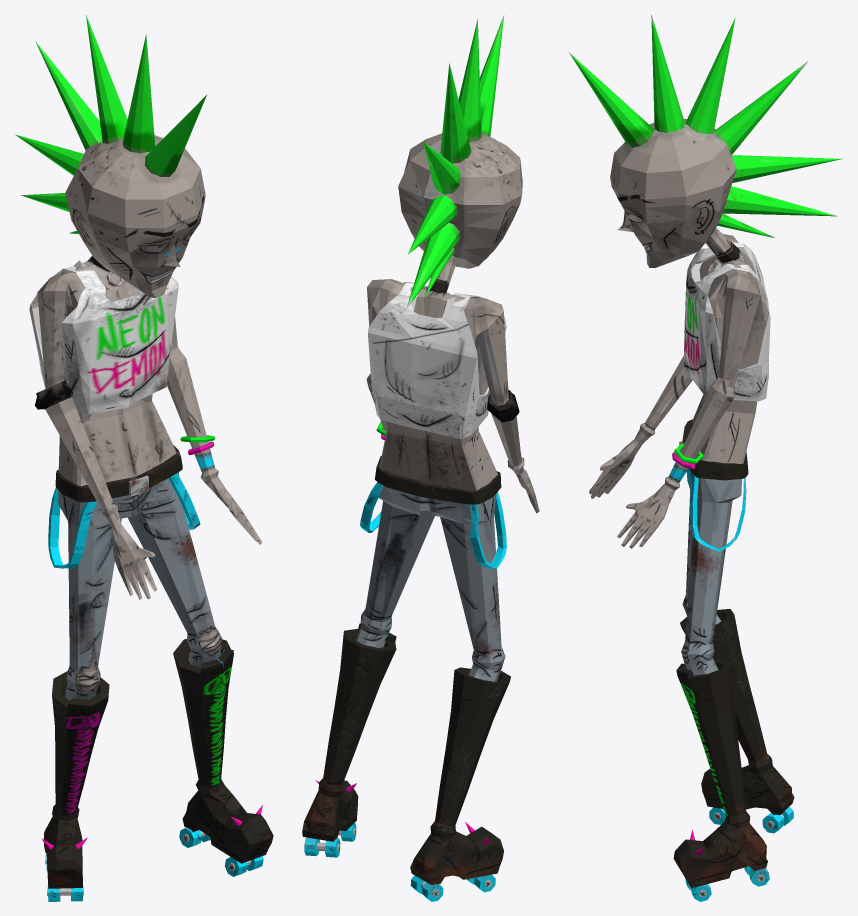
File: punkAnimation_000031.obj
3 views of the same model, side by side, from view 1: azimuth 30°, elevation 25°; view 2: azimuth 150°, elevation 25°; view 3: azimuth 270°, elevation 25° (orthographic). The views are drawn at different scales.
Parts seen in each view (by area): view 1: Cube.004_Cube.003; view 2: Cube.004_Cube.003; view 3: Cube.004_Cube.003.
Part boxes in pixels (x1,y1,x2,y2): Cube.004_Cube.003: (15, 15, 273, 901); Cube.004_Cube.003: (302, 14, 539, 901); Cube.004_Cube.003: (569, 14, 843, 901).
Bounding box in the file's own units: 1.96 × 7.51 × 2.27.
